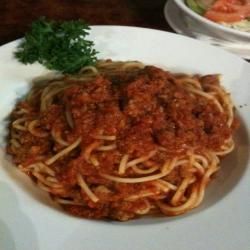bolonese_pasta: (17, 64, 242, 234)
